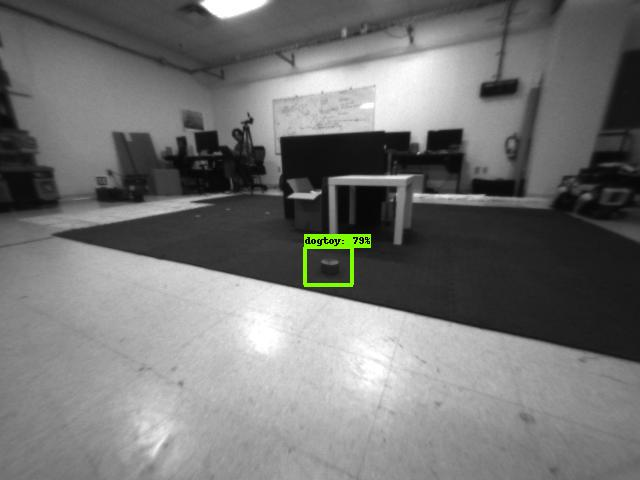dogtoy: (303, 247, 345, 286)
